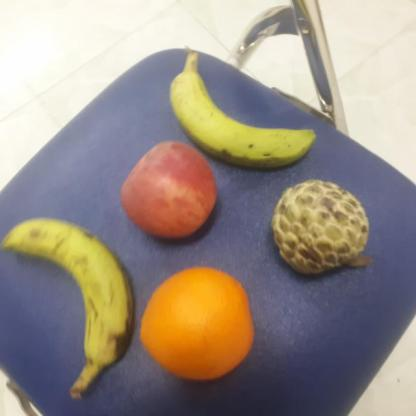annona: (271, 178, 371, 278)
apple: (115, 137, 219, 241)
banana: (0, 215, 136, 367), (165, 64, 319, 168)
orange: (135, 264, 254, 382)
